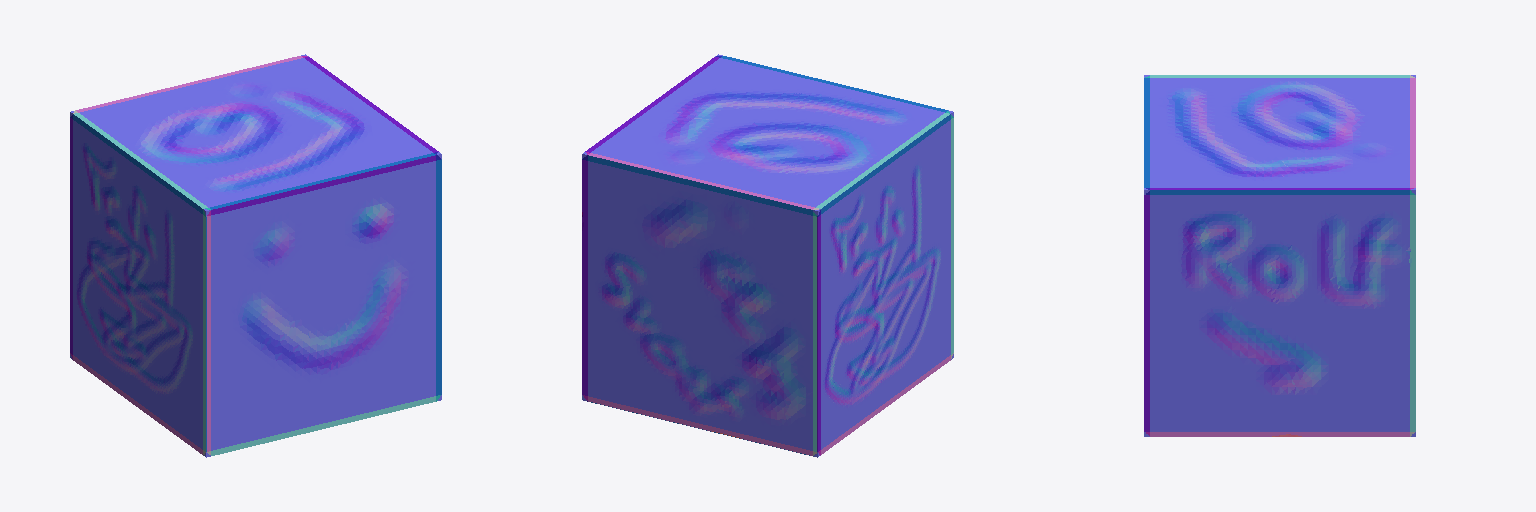
3 views of the same model, side by side, from view 1: azimuth 30°, elevation 25°; view 2: azimuth 150°, elevation 25°; view 3: azimuth 270°, elevation 25° (orthographic).
Visible parts, largest first — view 1: Bube_low_Cube.001; view 2: Bube_low_Cube.001; view 3: Bube_low_Cube.001.
Boxes of the visible parts, x1=… form: Bube_low_Cube.001: x1=70, y1=54, x2=441, y2=457; Bube_low_Cube.001: x1=582, y1=54, x2=953, y2=457; Bube_low_Cube.001: x1=1144, y1=75, x2=1415, y2=436.
Size of the model in its own units: 15.16 by 15.16 by 15.16.
Materials: 1 (1 with a texture image).